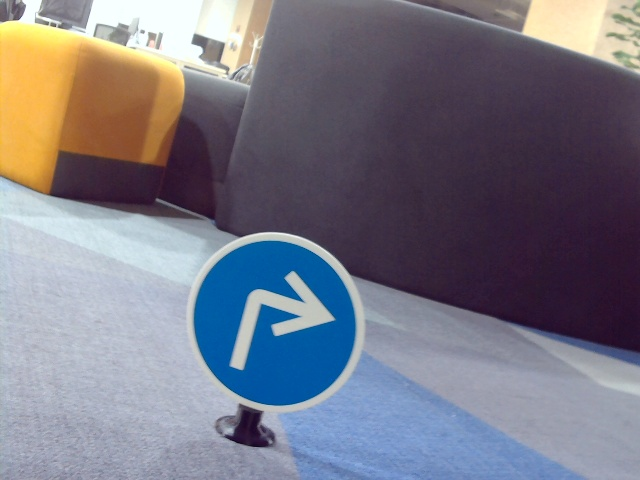turn_right: (225, 261, 325, 373)
